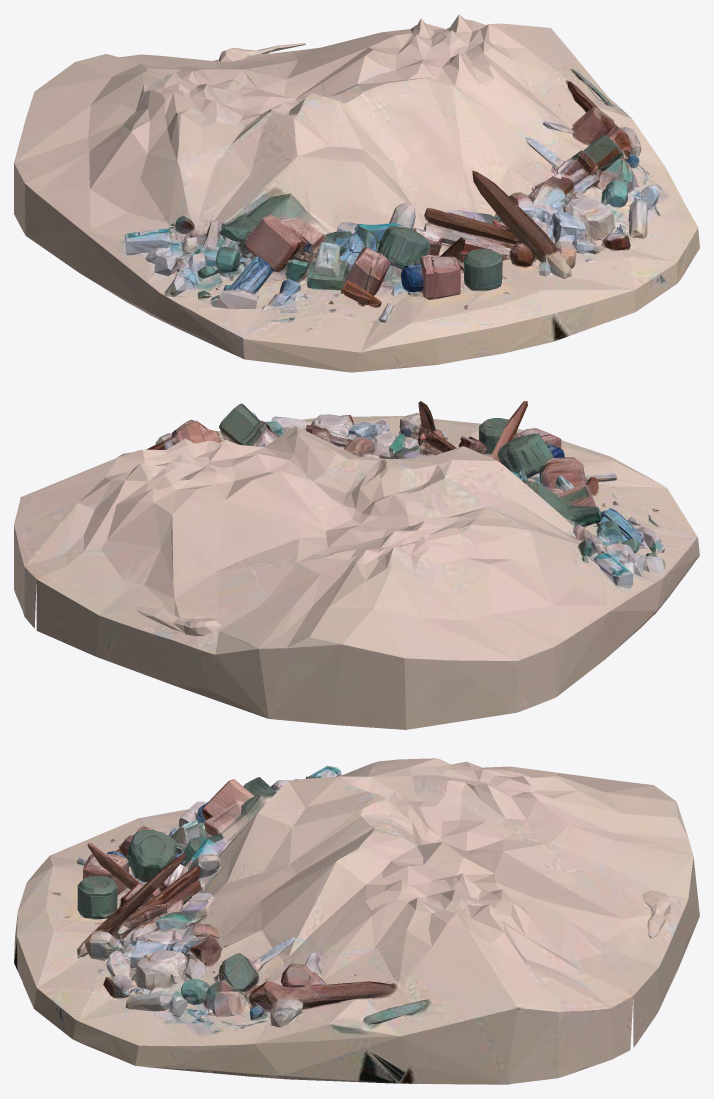
Rendered from plastic.glb.
3 renders of one model, top to bottom at view 1: azimuth 30°, elevation 25°; view 2: azimuth 150°, elevation 25°; view 3: azimuth 270°, elevation 25°, orthographic. The views are drawn at different scales.
Visible parts, largest first — view 1: GLTF; view 2: GLTF; view 3: GLTF.
Boxes of the visible parts, bbox=[...] form: GLTF: bbox=[14, 14, 699, 372]; GLTF: bbox=[14, 401, 699, 729]; GLTF: bbox=[14, 758, 699, 1084].
Size of the model in its own units: 0.9169 by 0.2186 by 1.
Materials: 1 (1 with a texture image).
